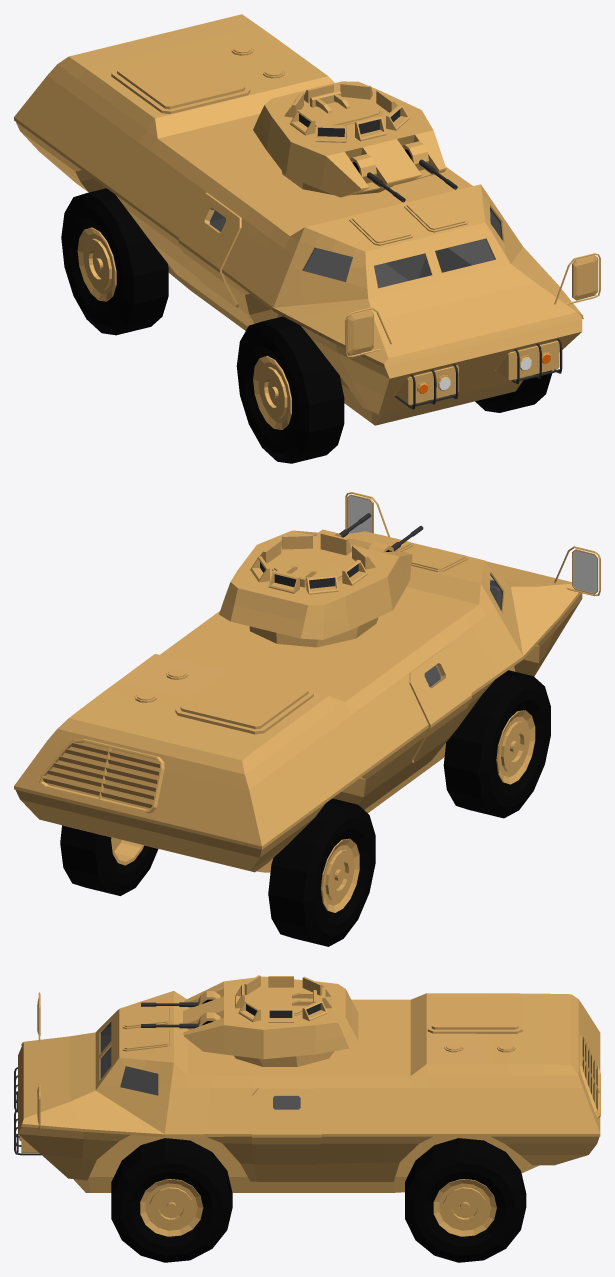
3 renders of one model, top to bottom at view 1: azimuth 30°, elevation 25°; view 2: azimuth 150°, elevation 25°; view 3: azimuth 270°, elevation 25°, orthographic. The views are drawn at different scales.
Parts seen in each view (by area): view 1: Plane.006, Plane.001, Cylinder.002, Cylinder.003, Plane.002, Plane.008, Plane.009, Plane.010, Plane.005, Cylinder, Plane.007, Cylinder.005 (+1 smaller); view 2: Plane.006, Plane.001, Cylinder.003, Cylinder.002, Cylinder.001, Plane.008, Plane.005, Plane.007, Plane.009; view 3: Plane.006, Cylinder, Cylinder.001, Plane.001, Plane.004, Plane.003, Plane.002, Plane.005, Plane.010, Plane.009, Cylinder.004, Cylinder.005.
Part boxes in pixels (x1,y1,x2,y2): Plane.006: (14, 14, 600, 425); Plane.001: (253, 81, 446, 197); Cylinder.002: (236, 316, 344, 463); Cylinder.003: (61, 188, 168, 335); Plane.002: (303, 210, 500, 287); Plane.008: (178, 192, 241, 272); Plane.009: (349, 208, 413, 245); Plane.010: (404, 195, 467, 232); Plane.005: (307, 94, 382, 128); Cylinder: (475, 370, 552, 412); Plane.007: (180, 244, 238, 307); Cylinder.005: (350, 154, 405, 202); Plane.006: (14, 492, 600, 872); Plane.001: (219, 530, 412, 647); Cylinder.003: (268, 798, 375, 946); Cylinder.002: (443, 670, 550, 818); Cylinder.001: (60, 825, 158, 895); Plane.008: (409, 648, 471, 728); Plane.005: (272, 555, 344, 581); Plane.007: (412, 699, 470, 762); Plane.009: (411, 548, 467, 572); Plane.006: (14, 991, 600, 1192); Cylinder: (111, 1138, 232, 1262); Cylinder.001: (405, 1138, 526, 1262); Plane.001: (183, 975, 358, 1066); Plane.004: (252, 1088, 321, 1137); Plane.003: (252, 1137, 321, 1164); Plane.002: (101, 1023, 157, 1094); Plane.005: (268, 988, 312, 1016); Plane.010: (122, 1029, 171, 1051); Plane.009: (122, 1007, 171, 1028); Cylinder.004: (141, 1012, 220, 1028); Cylinder.005: (141, 991, 220, 1006).
Size of the model in its own units: 280 by 288 by 667.
